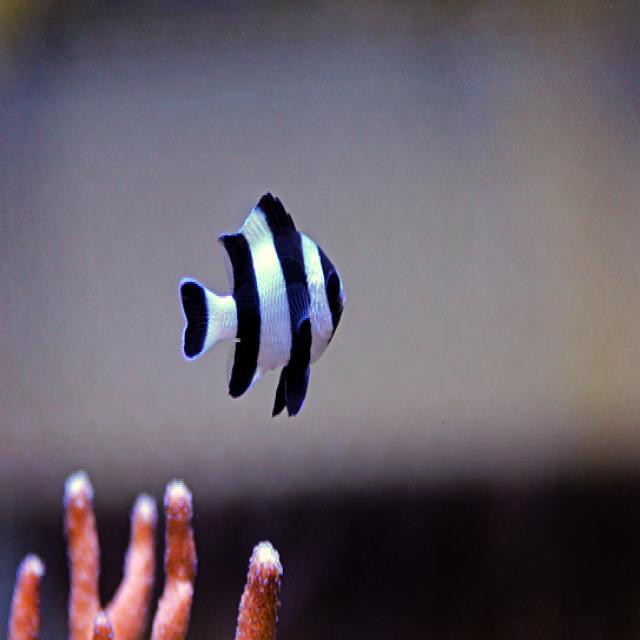ThreeStripedDamselfish: (177, 193, 348, 419)
